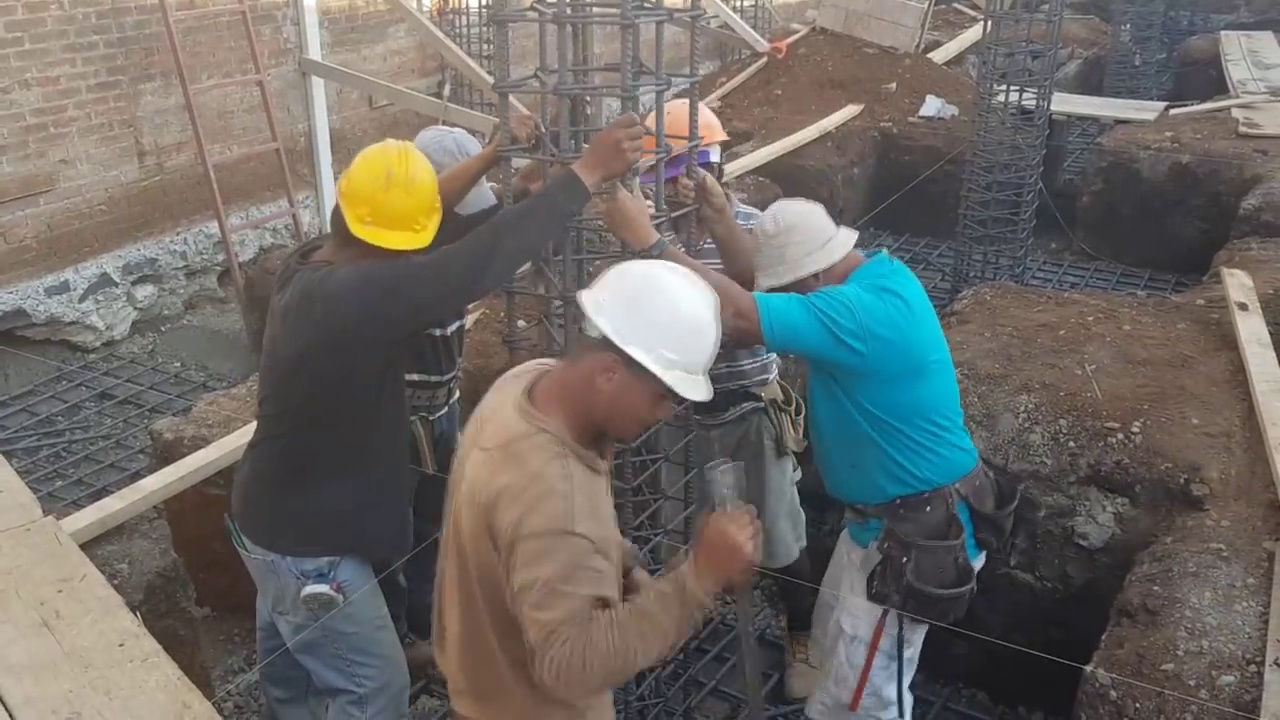helmet: (581, 252, 724, 407), (635, 99, 735, 169)
helmet-off: (737, 199, 869, 302), (411, 124, 498, 251)
helmet-on: (523, 247, 730, 483), (294, 138, 445, 270), (634, 99, 737, 235)
person: (233, 115, 640, 718), (590, 173, 977, 720), (431, 250, 761, 720), (636, 91, 831, 705), (383, 112, 543, 675)
